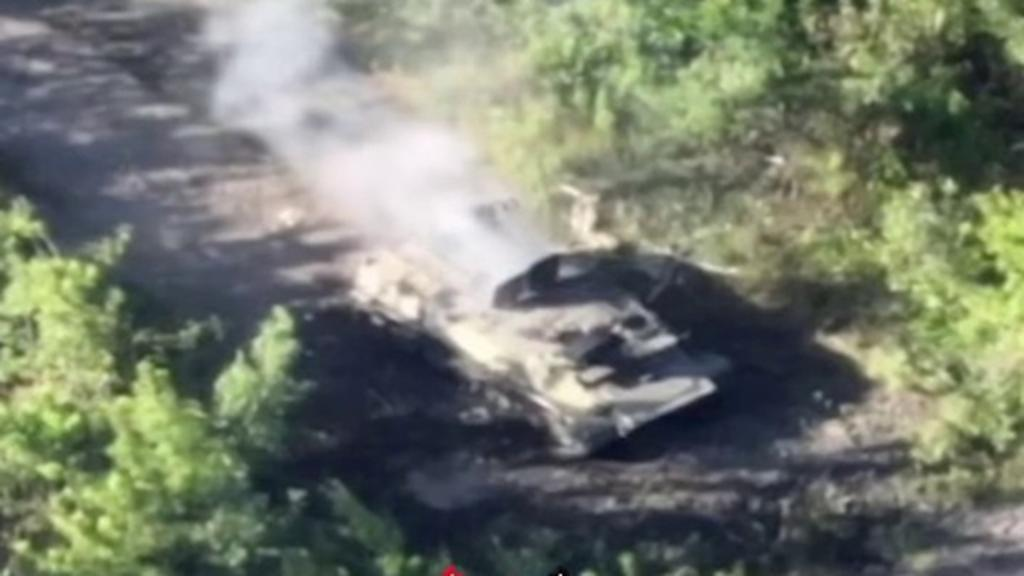APC-IFV: (348, 200, 730, 466)
